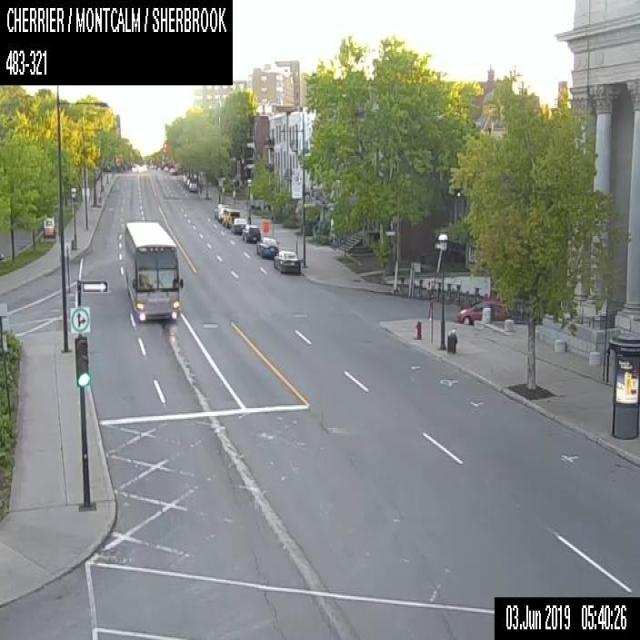bus: (122, 218, 182, 322)
construction: (262, 220, 269, 236)
vehicle: (456, 296, 509, 324), (273, 249, 300, 272), (255, 237, 278, 257), (220, 208, 240, 227), (242, 224, 260, 242), (213, 202, 230, 220), (230, 216, 246, 233), (188, 180, 197, 192), (186, 177, 190, 187), (169, 166, 174, 173), (163, 165, 168, 170)
